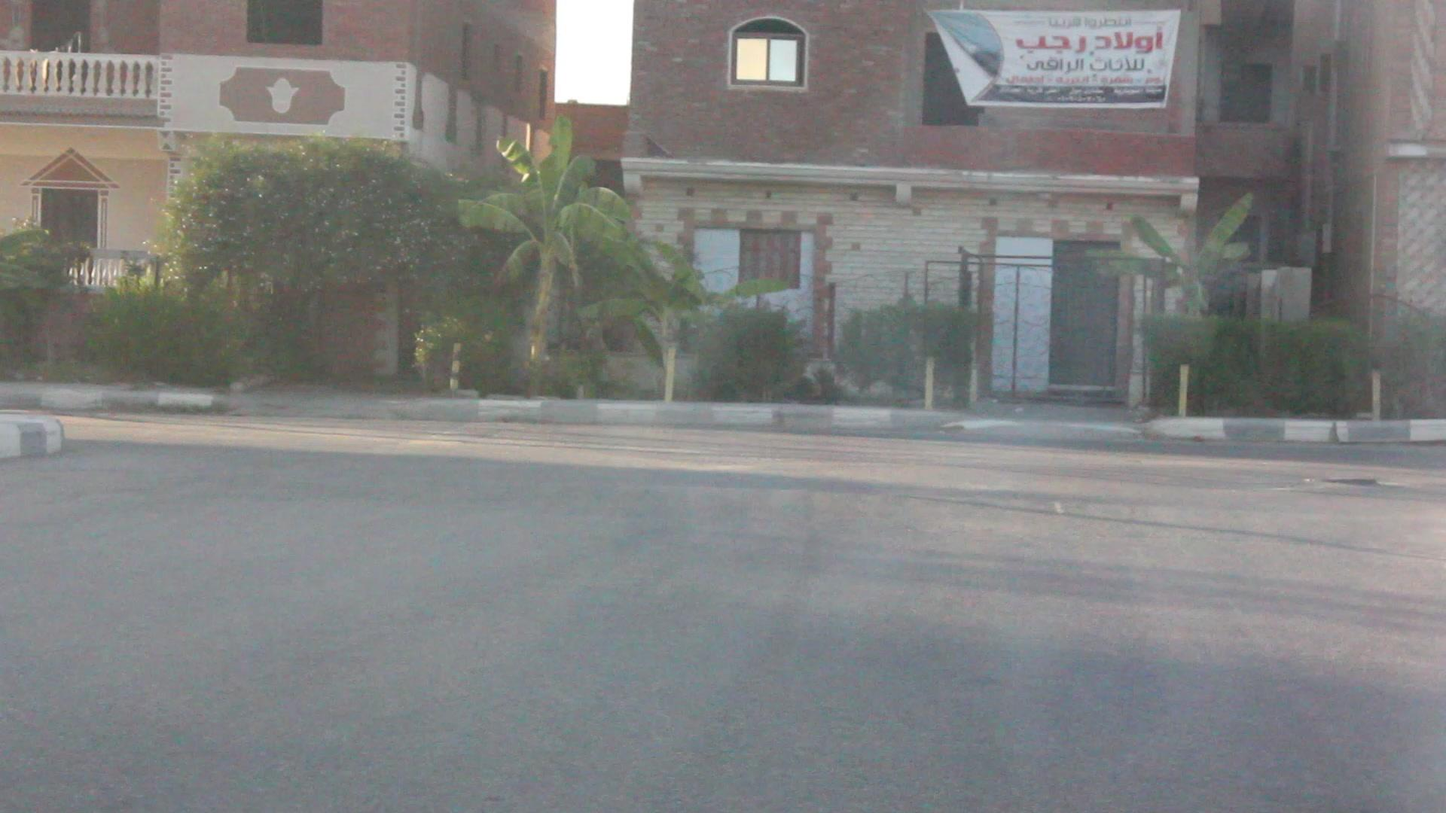Bump: (0, 458, 1445, 562)
